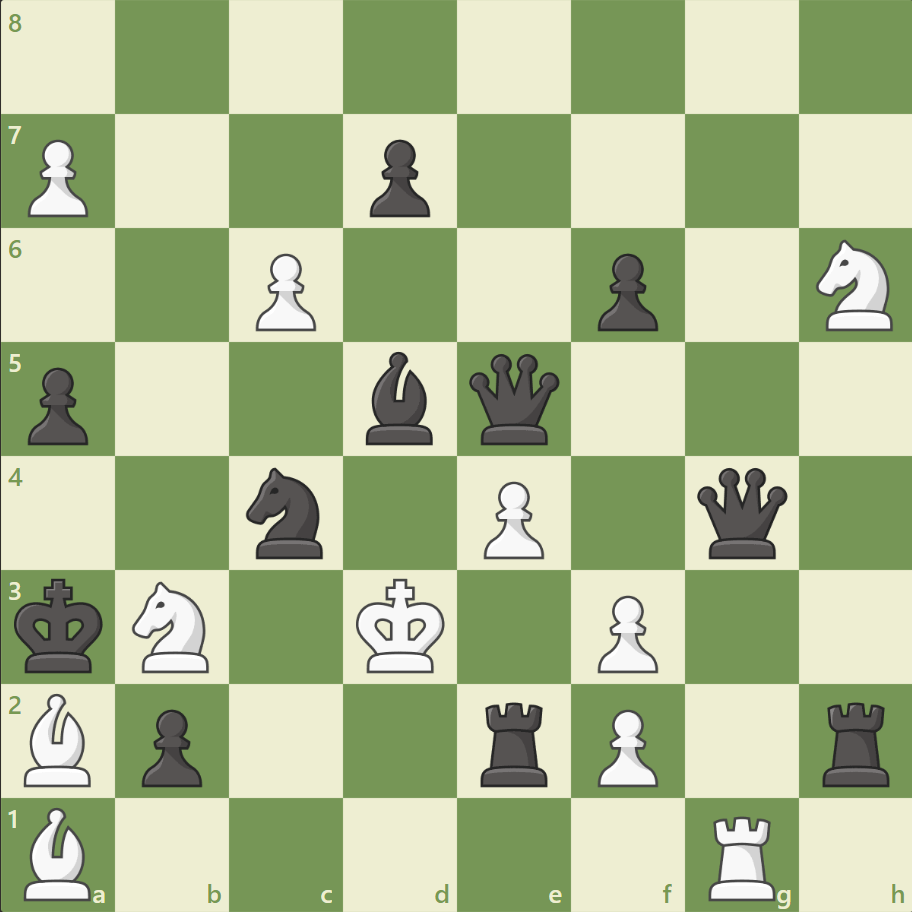B: (17, 687, 101, 790), (17, 801, 101, 904)
K: (351, 571, 451, 679)
N: (124, 575, 222, 677), (806, 234, 903, 337)
P: (20, 132, 95, 223), (247, 246, 322, 337), (474, 473, 549, 564), (588, 586, 662, 677), (588, 700, 662, 791)
R: (700, 806, 783, 904)
b: (358, 347, 442, 449)
k: (11, 571, 111, 679)
n: (238, 461, 335, 564)
p: (20, 359, 95, 450), (133, 700, 208, 791), (361, 132, 435, 223), (588, 246, 662, 337)
q: (464, 349, 563, 449), (691, 463, 790, 562)
r: (473, 693, 556, 790), (814, 693, 897, 790)
